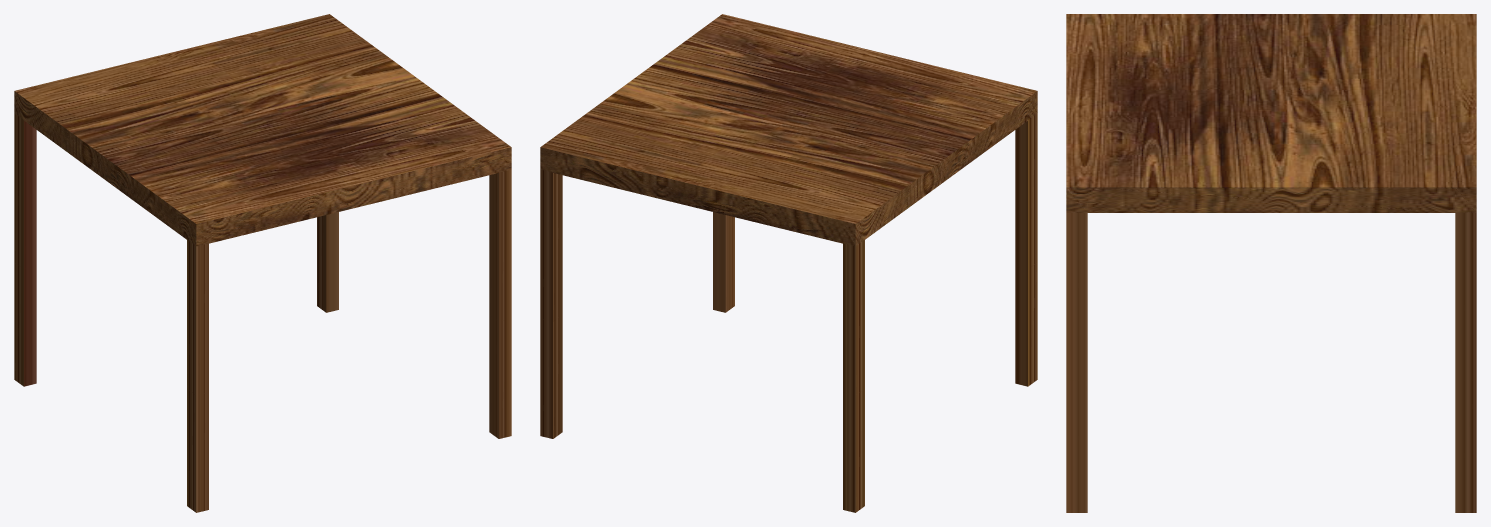
Rendered from mesa.glb.
3 renders of one model, left to right at view 1: azimuth 30°, elevation 25°; view 2: azimuth 150°, elevation 25°; view 3: azimuth 270°, elevation 25°, orthographic. The views are drawn at different scales.
Parts seen in each view (by area): view 1: Cube.001; view 2: Cube.001; view 3: Cube.001.
Part boxes in pixels (x1=…): Cube.001: x1=14, y1=14, x2=511, y2=512; Cube.001: x1=540, y1=14, x2=1037, y2=512; Cube.001: x1=1066, y1=14, x2=1476, y2=512.
Size of the model in its own units: 2.93 by 2.57 by 2.93.
Materials: 1 (1 with a texture image).
